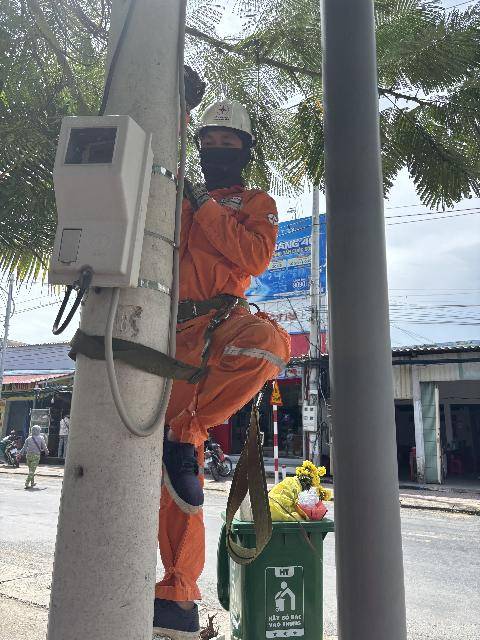gloves: (176, 162, 218, 215)
harness: (150, 280, 255, 336)
helmet: (184, 90, 273, 151)
shoes: (147, 402, 208, 506), (132, 585, 210, 640)
